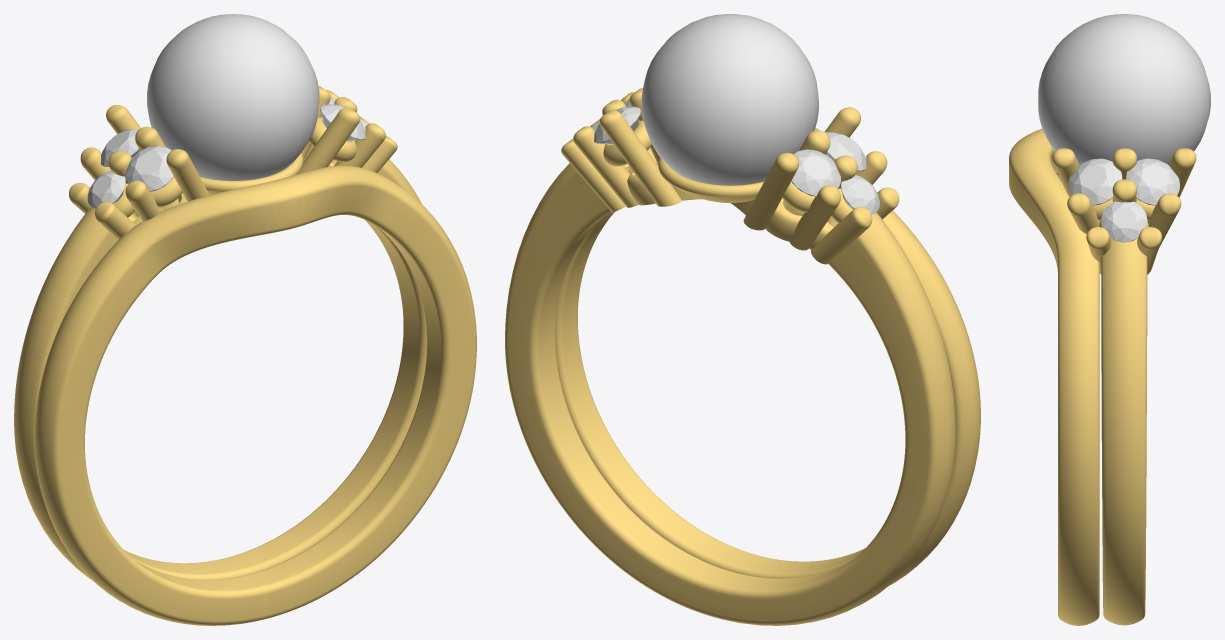
File: DJygwbBOTH.glb
3 renders of one model, left to right at view 1: azimuth 30°, elevation 25°; view 2: azimuth 150°, elevation 25°; view 3: azimuth 270°, elevation 25°, orthographic. The views are drawn at different scales.
Parts seen in each view (by area): view 1: DJ YG for 3d model both, DJ pearl for 3d model both, DJ dia for 3d model both.004, DJ dia for 3d model both.005, DJ dia for 3d model both.002; view 2: DJ YG for 3d model both, DJ pearl for 3d model both, DJ dia for 3d model both.002, DJ dia for 3d model both.005, DJ dia for 3d model both.004; view 3: DJ YG for 3d model both, DJ pearl for 3d model both, DJ dia for 3d model both.003, DJ dia for 3d model both.001, DJ dia for 3d model both.
Part boxes in pixels (<box>): DJ YG for 3d model both: <box>14,86,476,625</box>; DJ pearl for 3d model both: <box>147,14,319,180</box>; DJ dia for 3d model both.004: <box>125,145,173,191</box>; DJ dia for 3d model both.005: <box>87,170,125,208</box>; DJ dia for 3d model both.002: <box>100,129,139,166</box>; DJ YG for 3d model both: <box>505,88,980,625</box>; DJ pearl for 3d model both: <box>641,14,818,185</box>; DJ dia for 3d model both.002: <box>791,149,840,196</box>; DJ dia for 3d model both.005: <box>840,175,879,214</box>; DJ dia for 3d model both.004: <box>825,132,866,171</box>; DJ YG for 3d model both: <box>1009,129,1196,625</box>; DJ pearl for 3d model both: <box>1038,14,1210,164</box>; DJ dia for 3d model both.003: <box>1068,158,1122,205</box>; DJ dia for 3d model both.001: <box>1126,158,1179,205</box>; DJ dia for 3d model both: <box>1101,201,1147,242</box>.
Size of the model in its own units: 21.83 by 27.8 by 8.77.
